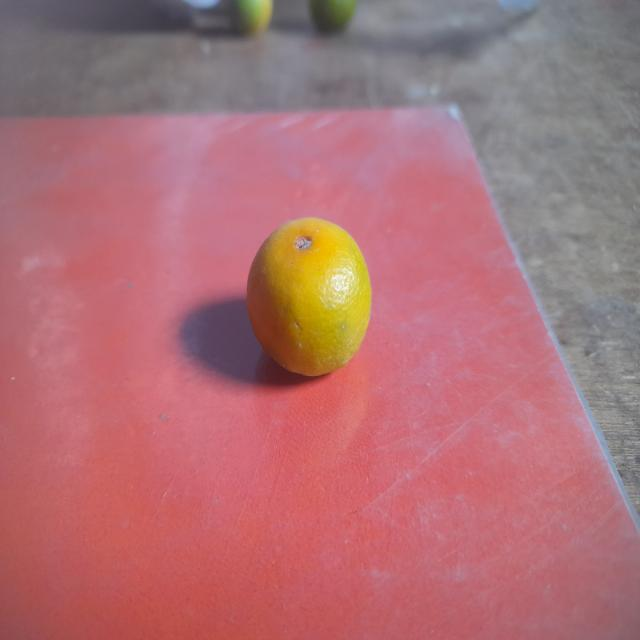greening: (248, 215, 373, 383)
